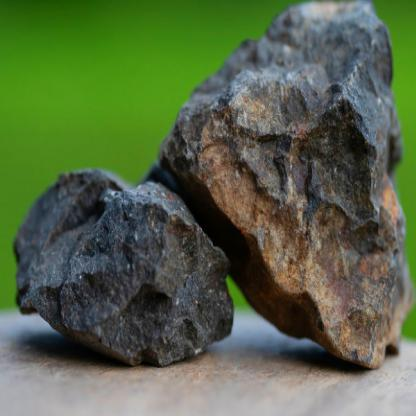Igneous_Basalt: (171, 0, 415, 381), (6, 158, 239, 373)
